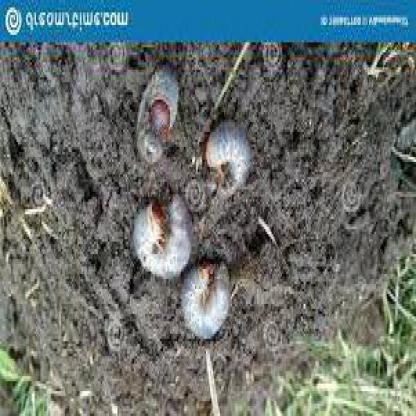root grubs: (132, 192, 195, 285), (185, 261, 233, 339)
